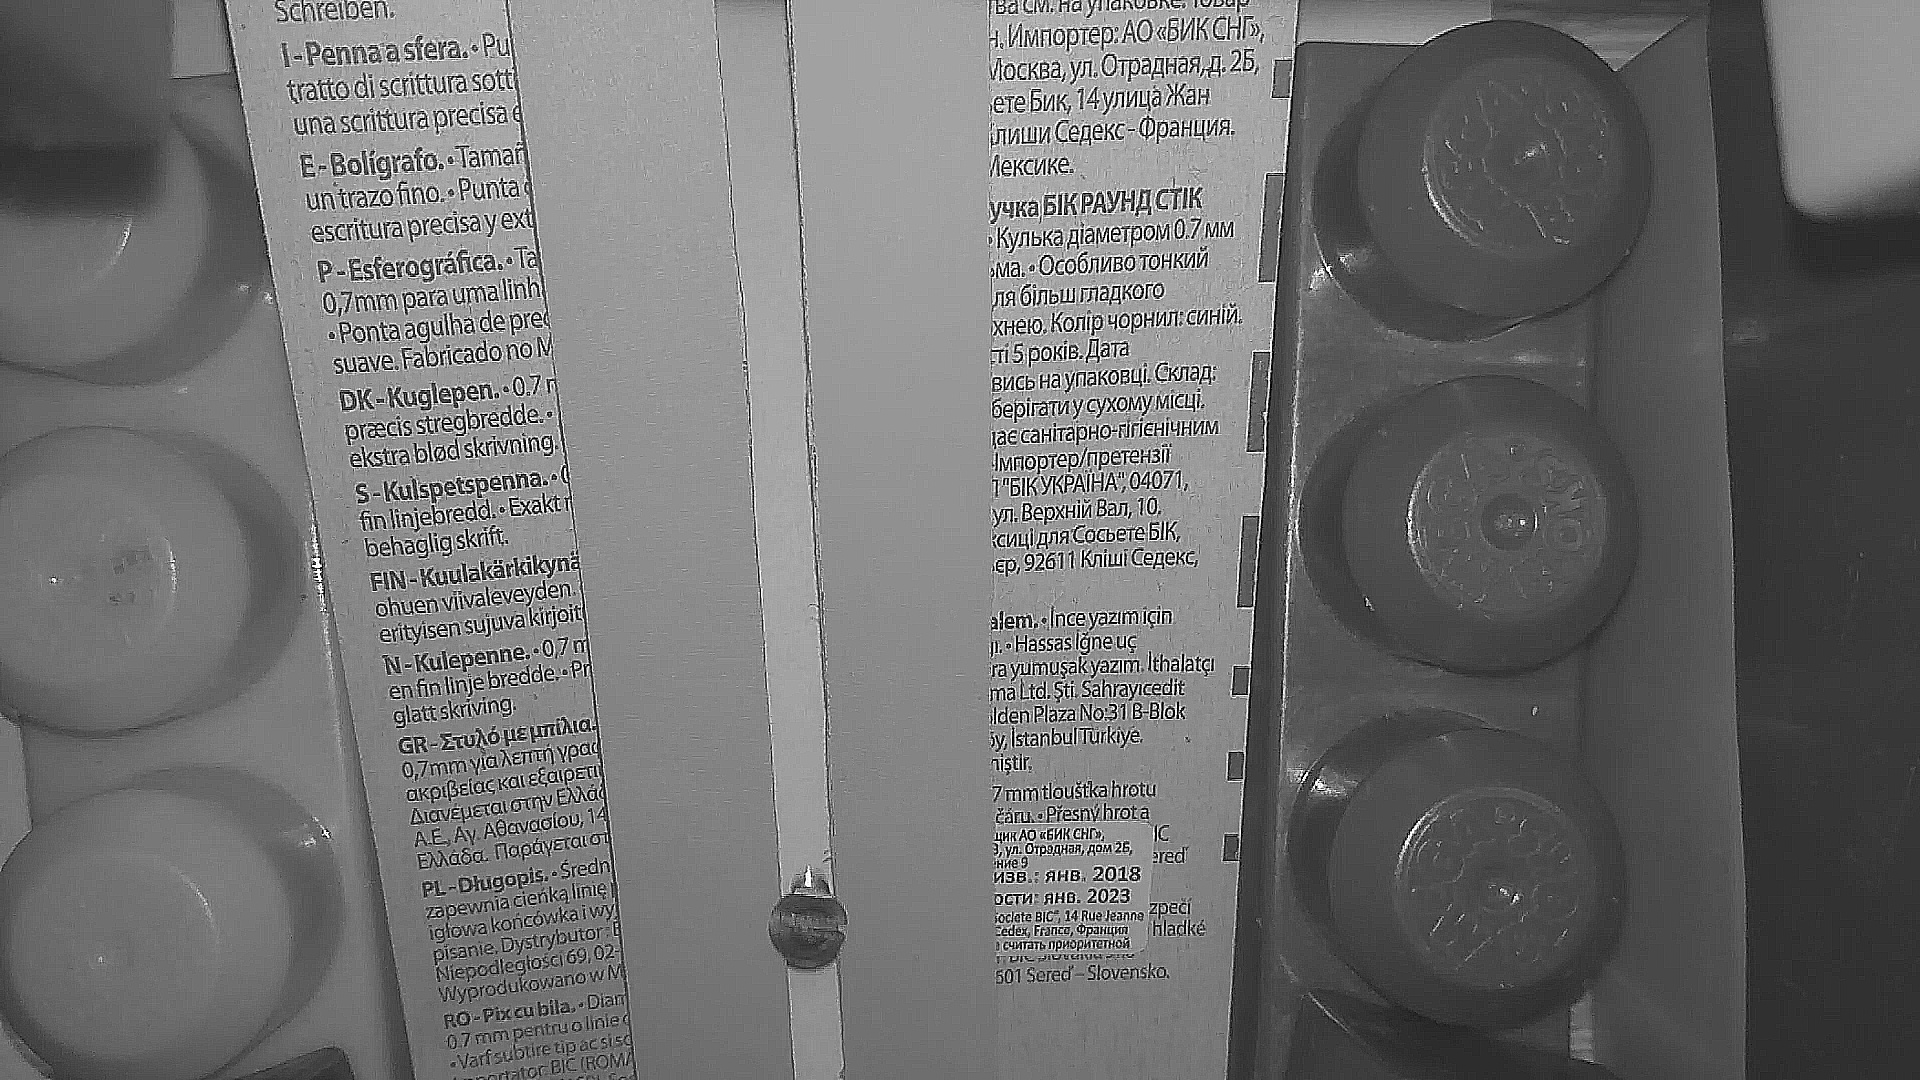i: (770, 886, 849, 971)
